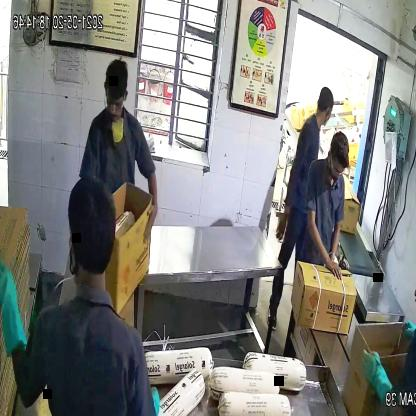goggles: (102, 89, 128, 113), (330, 159, 349, 177)
